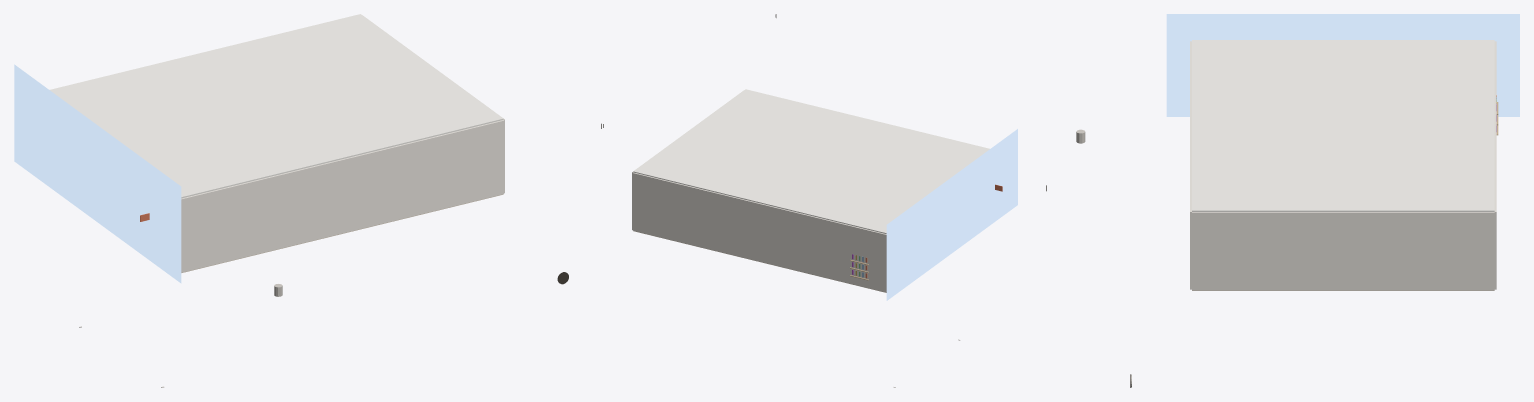
File: kelas.glb
The picture shows the model from 3 angles, left to right: view 1: azimuth 30°, elevation 25°; view 2: azimuth 150°, elevation 25°; view 3: azimuth 270°, elevation 25°; orthographic projection. The views are drawn at different scales.
Visible parts, largest first — view 1: Ceiling, Wall_Front, Exterior_Sky; view 2: Ceiling, Wall_Back, Exterior_Sky; view 3: Ceiling, Wall_Right, Exterior_Sky, Wall_Back, Wall_Front.
Boxes of the visible parts, left/top/right/bottom form: Ceiling: left=50, top=14, right=503, bottom=198; Wall_Front: left=181, top=120, right=504, bottom=272; Exterior_Sky: left=14, top=64, right=181, bottom=283; Ceiling: left=633, top=89, right=989, bottom=233; Wall_Back: left=632, top=172, right=886, bottom=292; Exterior_Sky: left=886, top=129, right=1017, bottom=300; Ceiling: left=1192, top=40, right=1494, bottom=211; Wall_Right: left=1192, top=212, right=1494, bottom=290; Exterior_Sky: left=1166, top=14, right=1519, bottom=116; Wall_Back: left=1494, top=41, right=1496, bottom=289; Wall_Front: left=1190, top=41, right=1191, bottom=289.
Size of the model in its own units: 18.49 by 11.93 by 18.78.
